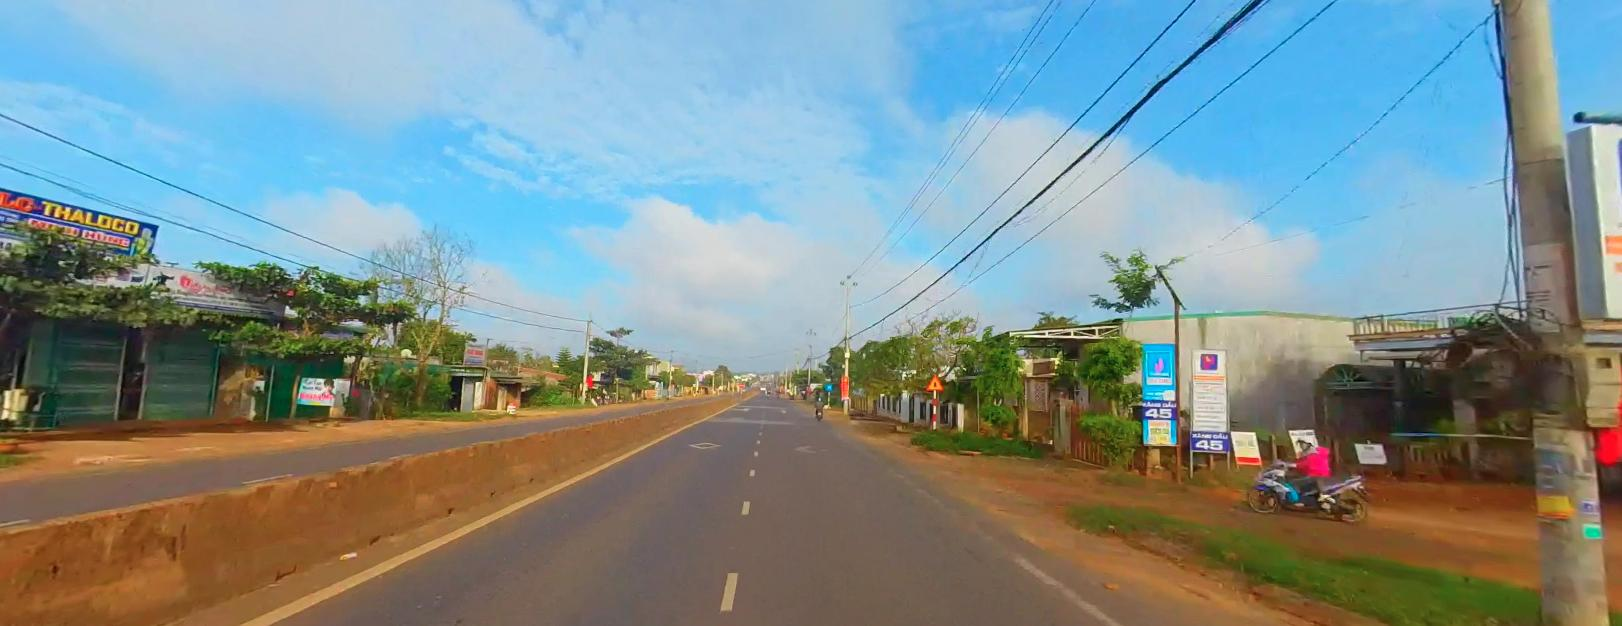Cam nguoc chieu: (738, 380, 744, 386), (738, 381, 743, 386)
Nguy hiem: (925, 372, 943, 390), (925, 372, 944, 389), (926, 372, 943, 390), (925, 372, 943, 389)
